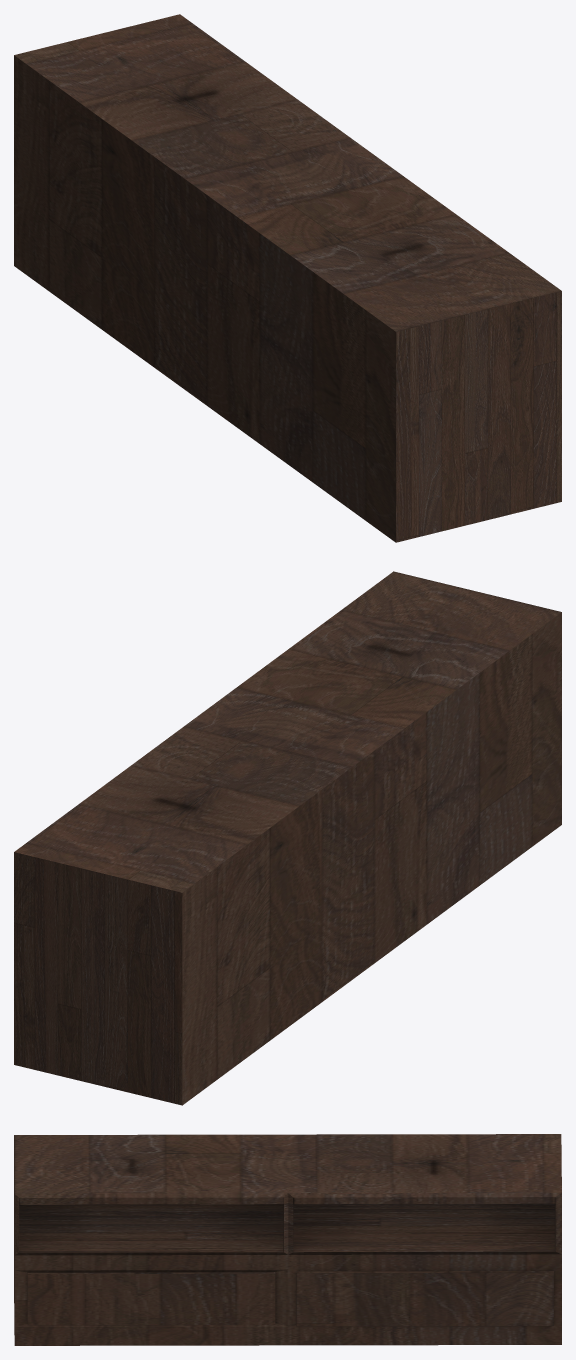
The model's file is MesaTV.fbx.
The picture shows the model from 3 angles, top to bottom: view 1: azimuth 30°, elevation 25°; view 2: azimuth 150°, elevation 25°; view 3: azimuth 270°, elevation 25°; orthographic projection. The views are drawn at different scales.
Parts seen in each view (by area): view 1: MuebleComedor; view 2: MuebleComedor; view 3: MuebleComedor.
Part boxes in pixels (x1=…): MuebleComedor: x1=14, y1=14, x2=561, y2=542; MuebleComedor: x1=14, y1=571, x2=561, y2=1105; MuebleComedor: x1=14, y1=1134, x2=561, y2=1345.
Bounding box in the file's own units: 1.81 × 2.12 × 6.9.
